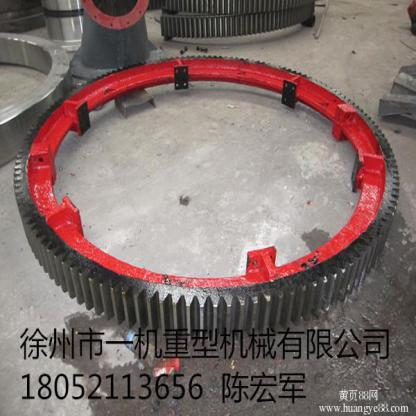FOD: (11, 43, 404, 346)
